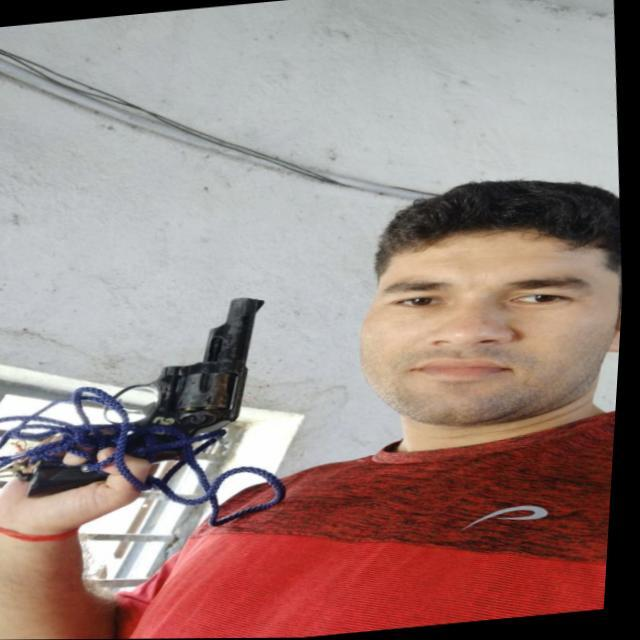weapon: (0, 291, 295, 505)
